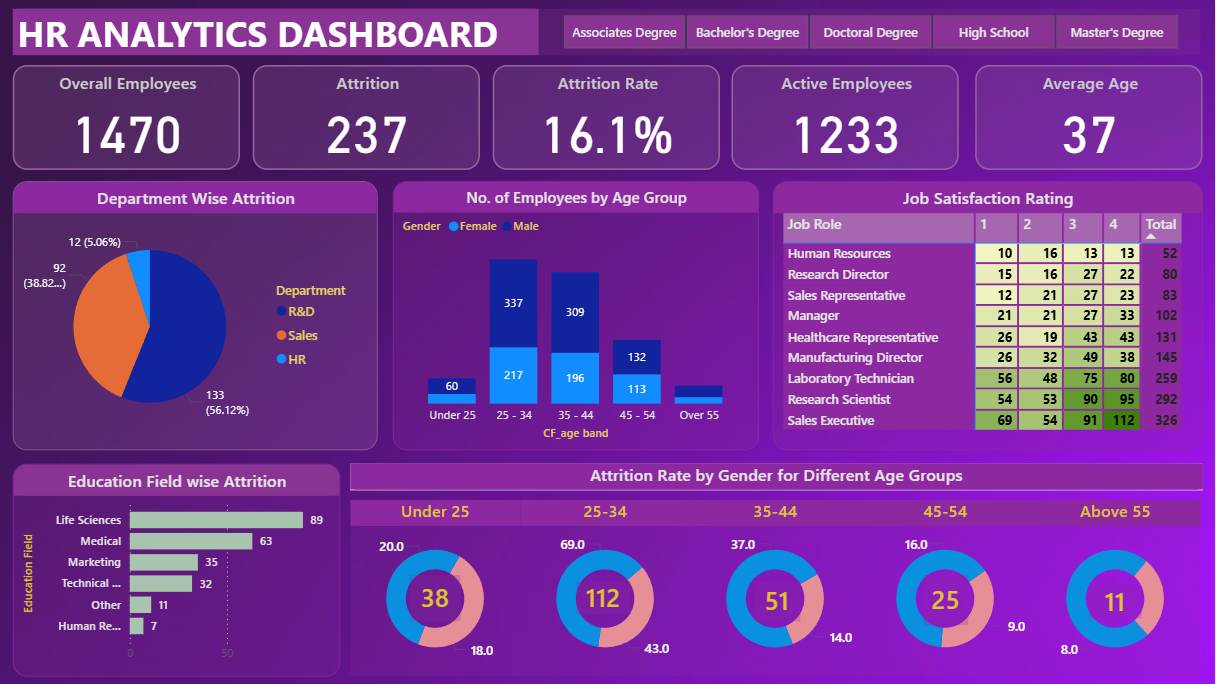

The page's visual inventory and layout, read from the dashboard file:
{"tool":"powerbi","page":{"name":"HR ANALYTICS DASHBOARD","canvas":[1280,720],"ordinal":0},"visuals":[{"type":"card","title":"Overall Employees","fields":{"Values":["Sum(HR data.Employee Count)"]},"box":[14.5,68.4,239.5,110.5],"z":0},{"type":"card","title":"Attrition","fields":{"Values":["Sum(HR data.Attrition Count)"]},"box":[267.1,68.4,239.5,110.5],"z":1000},{"type":"card","title":"Attrition Rate","fields":{"Values":["HR data.Attrition Rate"]},"box":[519.7,68.4,239.5,110.5],"z":2000},{"type":"card","title":"Active Employees","fields":{"Values":["HR data.Active employees"]},"box":[771.1,68.4,239.5,110.5],"z":3000},{"type":"card","title":"Average Age","fields":{"Values":["Avg(HR data.Age)"]},"box":[1027.6,68.4,239.5,110.5],"z":4000},{"type":"pieChart","title":"Department Wise Attrition","fields":{"Category":["HR data.Department"],"Y":["Sum(HR data.Attrition Count)"]},"box":[14.5,190.8,384.2,282.9],"z":5000},{"type":"columnChart","title":"No. of Employees by Age Group","fields":{"Category":["HR data.CF_age band"],"Y":["Sum(HR data.Employee Count)"],"Series":["HR data.Gender"]},"box":[414.5,190.8,385.5,282.9],"z":6000},{"type":"pivotTable","title":"Job Satisfaction Rating","fields":{"Rows":["HR data.Job Role"],"Columns":["HR data.Job Satisfaction"],"Values":["Sum(HR data.Employee Count)"]},"box":[814.5,190.8,452.6,282.9],"z":7000},{"type":"barChart","title":"Education Field wise Attrition","fields":{"Category":["HR data.Education Field"],"Y":["Sum(HR data.Attrition Count)"]},"box":[14.5,488.2,344.7,223.7],"z":8000},{"type":"donutChart","title":"Under 25","fields":{"Category":["HR data.Gender"],"Y":["Sum(HR data.Attrition Count)"],"Series":["HR data.CF_age band"]},"box":[369.7,526.3,179,185.5],"z":9000},{"type":"textbox","title":"Attrition Rate by Gender for Different Age Groups","box":[369.7,488.2,897.4,27.6],"z":10000},{"type":"donutChart","title":"25-34","fields":{"Category":["HR data.Gender"],"Y":["Sum(HR data.Attrition Count)"],"Series":["HR data.CF_age band"]},"box":[548.7,526.3,178.9,185.5],"z":11000},{"type":"donutChart","title":"35-44","fields":{"Category":["HR data.Gender"],"Y":["Sum(HR data.Attrition Count)"],"Series":["HR data.CF_age band"]},"box":[727.6,526.3,178.9,185.5],"z":12000},{"type":"donutChart","title":"45-54","fields":{"Category":["HR data.Gender"],"Y":["Sum(HR data.Attrition Count)"],"Series":["HR data.CF_age band"]},"box":[906.6,526.3,178.9,185.5],"z":13000},{"type":"donutChart","title":"Above 55","fields":{"Category":["HR data.Gender"],"Y":["Sum(HR data.Attrition Count)"],"Series":["HR data.CF_age band"]},"box":[1085.5,526.3,178.9,185.5],"z":14000},{"type":"card","fields":{"Values":["Sum(HR data.Attrition Count)"]},"box":[973.7,605.3,46.1,52.6],"z":15000},{"type":"card","fields":{"Values":["Sum(HR data.Attrition Count)"]},"box":[607.9,611.8,56.6,35.5],"z":16000},{"type":"card","fields":{"Values":["Sum(HR data.Attrition Count)"]},"box":[794.7,611.8,48.7,42.1],"z":17000},{"type":"card","fields":{"Values":["Sum(HR data.Attrition Count)"]},"box":[432.9,605.3,52.6,48.7],"z":18000},{"type":"card","fields":{"Values":["Sum(HR data.Attrition Count)"]},"box":[1147.4,615.8,55.3,35.5],"z":19000},{"type":"textbox","title":"HR ANALYTICS DASHBOARD","box":[14.5,9.2,553.9,48.7],"z":19001},{"type":"slicer","fields":{"Values":["HR data.Education"]},"box":[568.4,9.2,696.1,48.7],"z":19002}]}

Visuals, with their boxes in screenshot pixels (x1, y1, x2, y2), scaled from the page's 1280x720 canvas onto the 1216x684 screenshot:
"Overall Employees" card: l=14, t=65, r=241, b=170
"Attrition" card: l=254, t=65, r=481, b=170
"Attrition Rate" card: l=494, t=65, r=721, b=170
"Active Employees" card: l=733, t=65, r=960, b=170
"Average Age" card: l=976, t=65, r=1204, b=170
"Department Wise Attrition" pieChart: l=14, t=181, r=379, b=450
"No. of Employees by Age Group" columnChart: l=394, t=181, r=760, b=450
"Job Satisfaction Rating" pivotTable: l=774, t=181, r=1204, b=450
"Education Field wise Attrition" barChart: l=14, t=464, r=341, b=676
"Under 25" donutChart: l=351, t=500, r=521, b=676
"Attrition Rate by Gender for Different Age Groups" textbox: l=351, t=464, r=1204, b=490
"25-34" donutChart: l=521, t=500, r=691, b=676
"35-44" donutChart: l=691, t=500, r=861, b=676
"45-54" donutChart: l=861, t=500, r=1031, b=676
"Above 55" donutChart: l=1031, t=500, r=1201, b=676
card - Sum(HR data.Attrition Count): l=925, t=575, r=969, b=625
card - Sum(HR data.Attrition Count): l=578, t=581, r=631, b=615
card - Sum(HR data.Attrition Count): l=755, t=581, r=801, b=621
card - Sum(HR data.Attrition Count): l=411, t=575, r=461, b=621
card - Sum(HR data.Attrition Count): l=1090, t=585, r=1143, b=619
"HR ANALYTICS DASHBOARD" textbox: l=14, t=9, r=540, b=55
slicer - HR data.Education: l=540, t=9, r=1201, b=55
